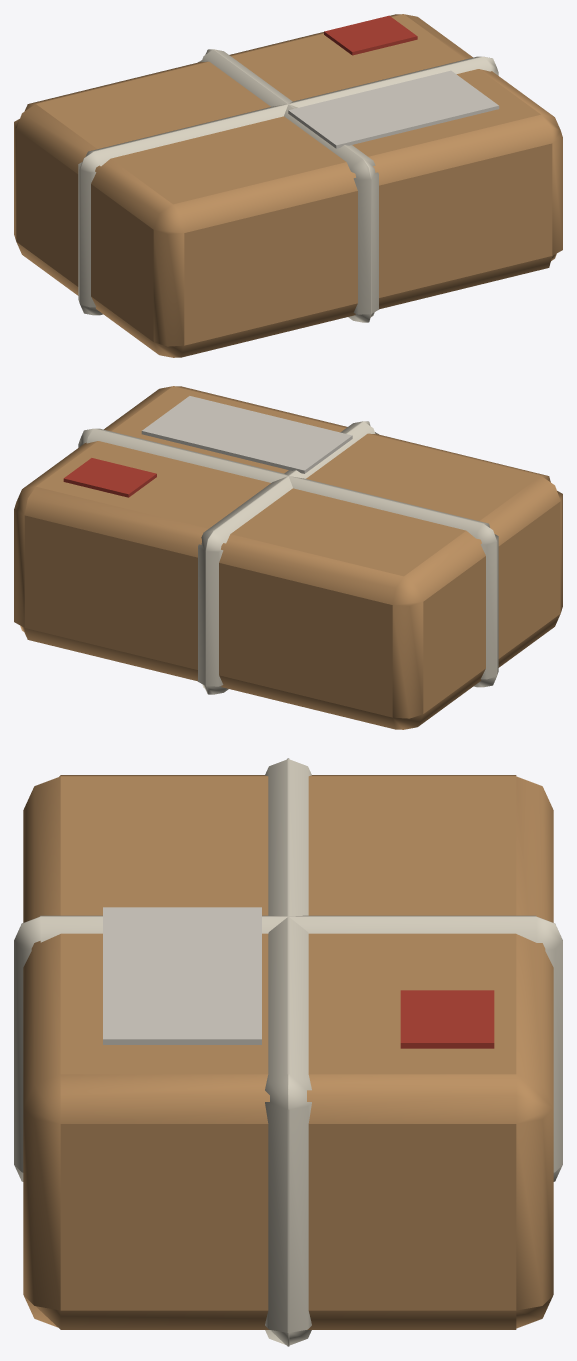
The model's file is parcel_hazel.glb.
3 renders of one model, top to bottom at view 1: azimuth 30°, elevation 25°; view 2: azimuth 150°, elevation 25°; view 3: azimuth 270°, elevation 25°, orthographic. The views are drawn at different scales.
Parts seen in each view (by area): view 1: body; view 2: body; view 3: body.
Boxes of the visible parts, x1=… form: body: x1=14, y1=14, x2=562, y2=357; body: x1=14, y1=386, x2=562, y2=729; body: x1=14, y1=758, x2=562, y2=1346.
Bounding box in the file's own units: 0.512 × 0.196 × 0.352.
